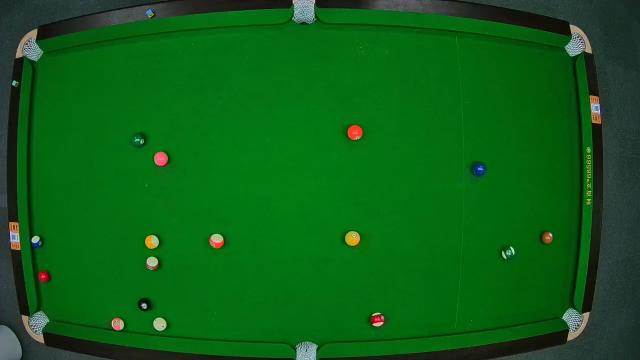bag1: (20, 39, 40, 61)
bag2: (292, 1, 314, 22)
bag3: (564, 34, 588, 56)
bag4: (28, 311, 46, 333)
bag5: (295, 340, 317, 360)
bag6: (564, 309, 582, 331)
ball0: (153, 316, 167, 332)
ball1: (344, 231, 362, 247)
ball10: (29, 236, 43, 249)
ball11: (369, 312, 385, 328)
ball12: (111, 318, 125, 332)
ball13: (210, 233, 224, 248)
ball14: (500, 245, 516, 260)
ball15: (144, 256, 160, 272)
ball2: (472, 161, 488, 177)
ball3: (38, 269, 51, 283)
ball4: (154, 152, 170, 168)
ball5: (348, 124, 364, 142)
ball6: (130, 133, 146, 147)
ball7: (539, 230, 553, 244)
ball8: (136, 298, 152, 312)
ball9: (144, 234, 160, 250)
